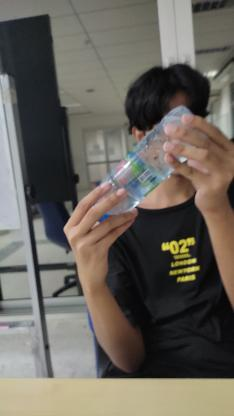Plastic Bottle: (79, 100, 204, 224)
